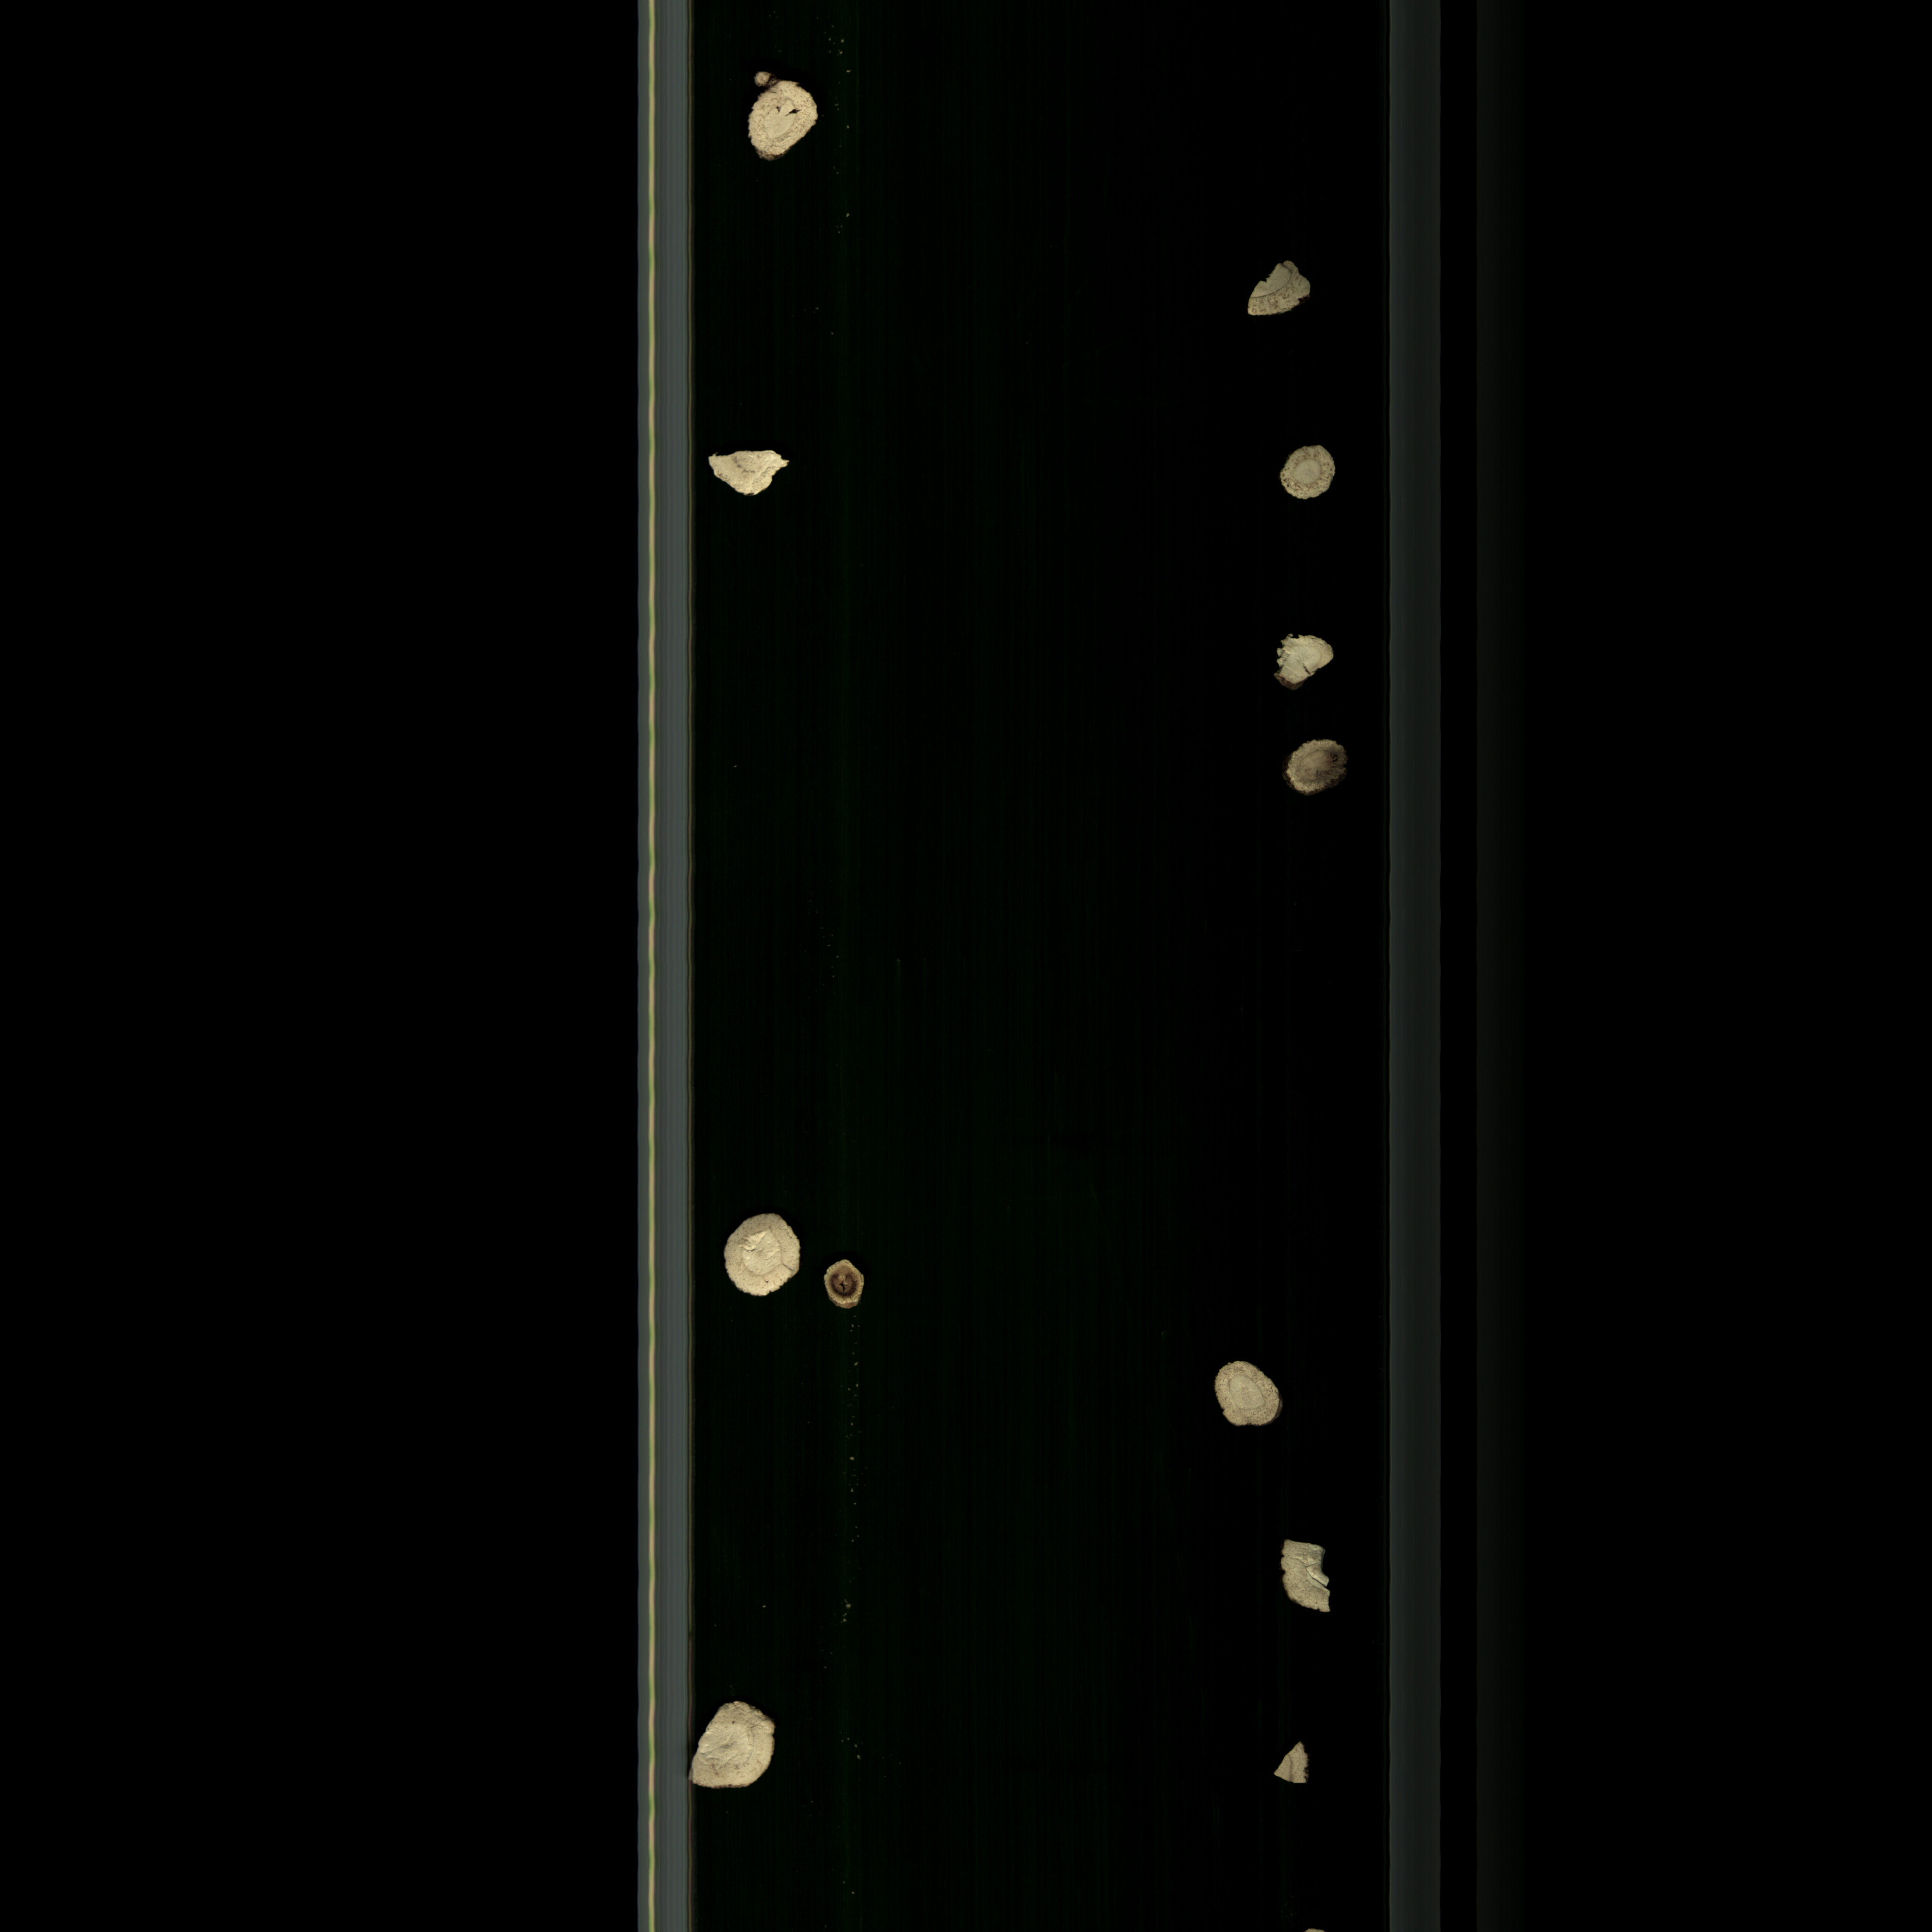debris: (679, 1704, 791, 1794), (1274, 1530, 1350, 1622), (1269, 628, 1346, 699), (706, 444, 796, 501)
dreg: (1244, 253, 1318, 322), (1260, 1732, 1322, 1801)
hole: (734, 64, 828, 166)
moldy: (1279, 731, 1359, 809), (819, 1258, 872, 1316)
